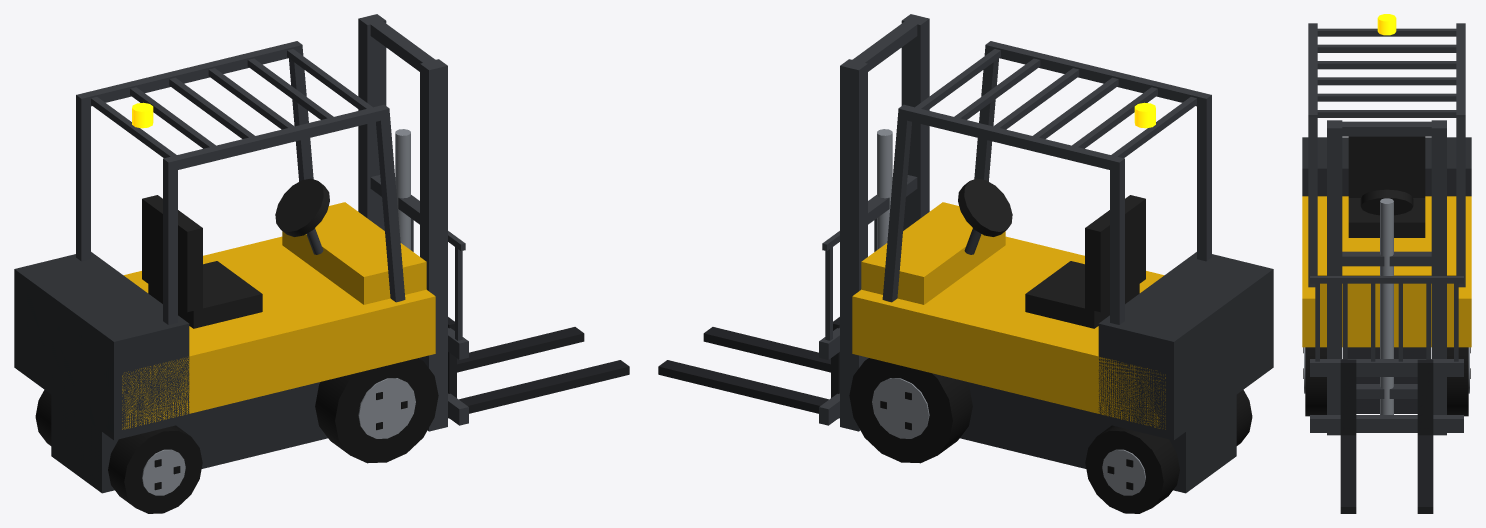
File: empilhadeira.glb
The picture shows the model from 3 angles, left to right: view 1: azimuth 30°, elevation 25°; view 2: azimuth 150°, elevation 25°; view 3: azimuth 270°, elevation 25°; orthographic projection. The views are drawn at different scales.
Parts seen in each view (by area): view 1: chassi, cabine, torre, roda_dd, roda_td, garfos, carro, roda_te; view 2: chassi, cabine, torre, roda_de, roda_te, garfos, carro, roda_td; view 3: cabine, chassi, torre, carro, garfos, roda_de, roda_dd, luz.
Part boxes in pixels (x1=…): chassi: x1=14, y1=178, x2=435, y2=493; cabine: x1=76, y1=41, x2=405, y2=328; torre: x1=358, y1=14, x2=447, y2=431; roda_dd: x1=315, y1=358, x2=438, y2=463; roda_td: x1=108, y1=425, x2=202, y2=513; garfos: x1=448, y1=317, x2=629, y2=418; carro: x1=411, y1=218, x2=468, y2=425; roda_te: x1=35, y1=390, x2=51, y2=445; chassi: x1=852, y1=178, x2=1273, y2=493; cabine: x1=882, y1=41, x2=1211, y2=328; torre: x1=840, y1=14, x2=929, y2=431; roda_de: x1=849, y1=358, x2=972, y2=463; roda_te: x1=1085, y1=425, x2=1179, y2=513; garfos: x1=658, y1=317, x2=839, y2=418; carro: x1=819, y1=218, x2=876, y2=425; roda_td: x1=1236, y1=390, x2=1252, y2=445; cabine: x1=1308, y1=23, x2=1465, y2=287; chassi: x1=1302, y1=137, x2=1471, y2=413; torre: x1=1327, y1=120, x2=1446, y2=435; carro: x1=1310, y1=276, x2=1463, y2=432; garfos: x1=1340, y1=359, x2=1433, y2=513; roda_de: x1=1447, y1=347, x2=1470, y2=416; roda_dd: x1=1303, y1=347, x2=1326, y2=416; luz: x1=1377, y1=14, x2=1396, y2=35.
Bounding box in the file's own units: 3.43 × 2.25 × 1.1.
